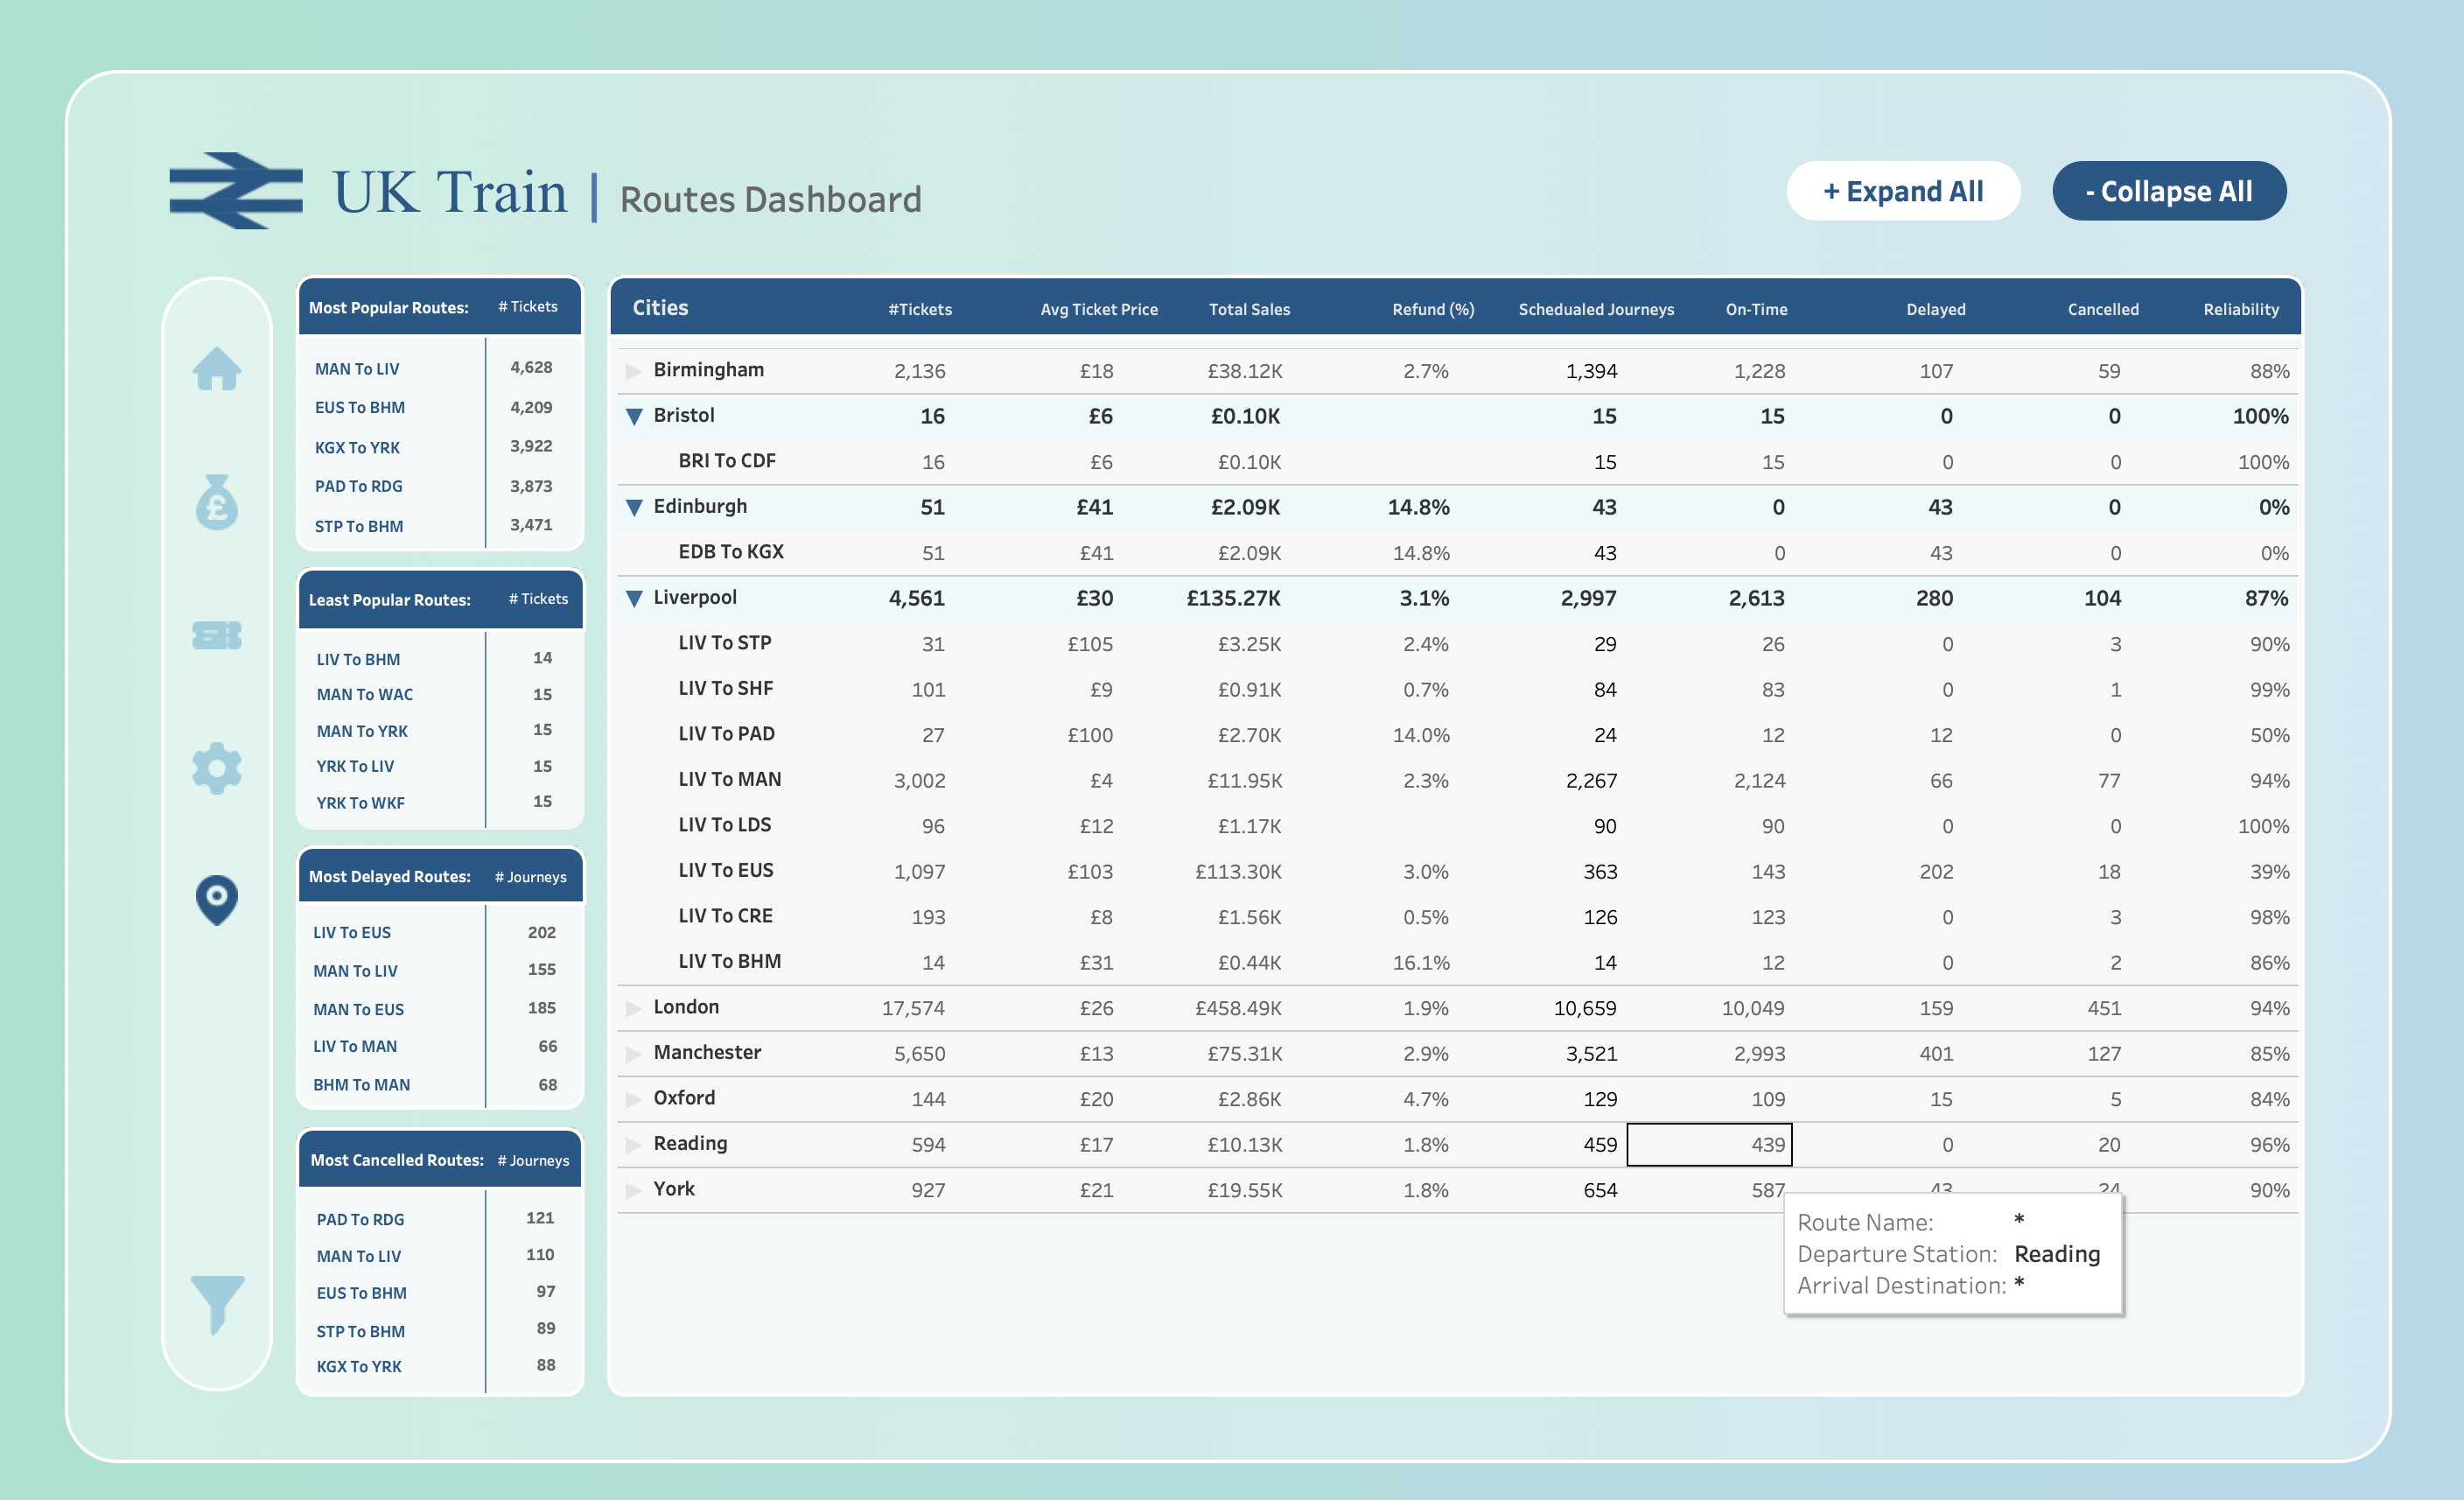

This screenshot's page, from the dashboard's own definition file:
{"tool":"tableau","page":{"name":"Routes Dashboard","canvas":[1400,860],"ordinal":6},"visuals":[{"type":"worksheet","title":"Routes Filters","mark":"Bar","box":[41,47,308,792]},{"type":"blank","box":[349,47,1018,792]},{"type":"image","param":"Image/Asset 1.png","box":[89,88,96,52]},{"type":"text","box":[185,88,446,52]},{"type":"blank","box":[631,88,383,52]},{"type":"worksheet","title":"Expand All","mark":"Text","box":[1014,88,152,52]},{"type":"worksheet","title":"Collapse All","mark":"Text","box":[1166,88,152,52]},{"type":"text","box":[268,164,72,32]},{"type":"text","box":[361,166,952,28]},{"type":"text","box":[176,168,99,26]},{"type":"dashboard-object","box":[108,177,36,77]},{"type":"text","box":[168,203,170,42]},{"type":"worksheet","title":"Most Popular Roates","mark":"Automatic","rows":["Route_Name"],"box":[176,204,147,113]},{"type":"worksheet","title":"Routes List","mark":"Bar","rows":["Departure_City"," (copy) (copy)_6842339627560971","Calculation_0548394986922001"],"cols":["Calculation_0548394982891530","Calculation_0548394983776272","Calculation_0548394982899726","Calculation_0548395009663011","Calculation_0548395006734367","Calculation_0548395011911719","Calculation_0548395013836843","Calculation_0548395018211377","Calculation_0548395023831099","Calculation_0548395024724032","Calculation_0548395025088578"],"box":[355,204,961,585]},{"type":"filter","title":"Routes Filters","param":"[federated.03h78ww1hwtryk19zhidr00sfhfq].[mn:Date_of_Purchase:ok]","box":[168,245,170,52]},{"type":"dashboard-object","box":[108,254,36,76]},{"type":"filter","title":"Routes Filters","param":"[federated.03h78ww1hwtryk19zhidr00sfhfq].[none:Calculation_0696677097410594:nk]","box":[168,297,170,52]},{"type":"dashboard-object","box":[108,330,36,76]},{"type":"text","box":[176,330,110,35]},{"type":"text","box":[280,332,60,29]},{"type":"filter","title":"Routes Filters","param":"[federated.03h78ww1hwtryk19zhidr00sfhfq].[none:Ticket_Type:nk]","box":[168,349,170,52]},{"type":"worksheet","title":"Least Popular Roates","mark":"Automatic","rows":["Route_Name"],"box":[177,371,145,103]},{"type":"filter","title":"Routes Filters","param":"[federated.03h78ww1hwtryk19zhidr00sfhfq].[none:Ticket_Class:nk]","box":[168,401,170,52]},{"type":"dashboard-object","box":[108,406,36,76]},{"type":"filter","title":"Routes Filters","param":"[federated.03h78ww1hwtryk19zhidr00sfhfq].[none:Ticket_Segment:nk]","box":[168,453,170,52]},{"type":"image","param":"Image/Asset 14.png","box":[108,482,36,76]},{"type":"text","box":[176,490,104,32]},{"type":"text","box":[276,491,59,30]},{"type":"blank","box":[168,505,170,207]},{"type":"worksheet","title":"Most Delayed Roates","mark":"Automatic","rows":["Route_Name"],"box":[175,527,150,109]},{"type":"blank","box":[108,558,36,76]},{"type":"blank","box":[108,634,36,76]},{"type":"text","box":[177,652,102,31]},{"type":"text","box":[281,653,52,30]},{"type":"worksheet","title":"Most Cancelled Roates","mark":"Automatic","rows":["Route_Name"],"box":[177,691,147,106]},{"type":"blank","box":[108,710,36,76]},{"type":"worksheet","title":"Reset Filter2","mark":"Automatic","box":[168,712,170,45]},{"type":"dashboard-object","box":[110,728,32,46]}]}

Visuals, with their boxes in screenshot pixels (x1, y1, x2, y2), scaled from the page's 1400x860 canvas onto the 2464x1500 screenshot:
"Routes Filters" worksheet (Bar marks): bbox(72, 82, 614, 1463)
blank: bbox(614, 82, 2406, 1463)
image: bbox(157, 153, 325, 244)
text: bbox(325, 153, 1110, 244)
blank: bbox(1110, 153, 1785, 244)
"Expand All" worksheet (Text marks): bbox(1785, 153, 2052, 244)
"Collapse All" worksheet (Text marks): bbox(2052, 153, 2320, 244)
text: bbox(472, 286, 598, 342)
text: bbox(635, 290, 2311, 339)
text: bbox(310, 293, 484, 339)
dashboard-object: bbox(190, 309, 254, 443)
text: bbox(296, 354, 595, 427)
"Most Popular Roates" worksheet: bbox(310, 356, 569, 553)
"Routes List" worksheet (Bar marks): bbox(625, 356, 2316, 1376)
"Routes Filters" filter: bbox(296, 427, 595, 518)
dashboard-object: bbox(190, 443, 254, 576)
"Routes Filters" filter: bbox(296, 518, 595, 609)
dashboard-object: bbox(190, 576, 254, 708)
text: bbox(310, 576, 503, 636)
text: bbox(493, 579, 598, 629)
"Routes Filters" filter: bbox(296, 609, 595, 699)
"Least Popular Roates" worksheet: bbox(311, 647, 567, 827)
"Routes Filters" filter: bbox(296, 699, 595, 790)
dashboard-object: bbox(190, 708, 254, 841)
"Routes Filters" filter: bbox(296, 790, 595, 880)
image: bbox(190, 841, 254, 973)
text: bbox(310, 855, 493, 910)
text: bbox(486, 857, 590, 908)
blank: bbox(296, 880, 595, 1242)
"Most Delayed Roates" worksheet: bbox(308, 919, 572, 1110)
blank: bbox(190, 973, 254, 1106)
blank: bbox(190, 1106, 254, 1238)
text: bbox(311, 1137, 491, 1191)
text: bbox(494, 1139, 586, 1191)
"Most Cancelled Roates" worksheet: bbox(311, 1205, 570, 1390)
blank: bbox(190, 1238, 254, 1371)
"Reset Filter2" worksheet: bbox(296, 1242, 595, 1321)
dashboard-object: bbox(193, 1270, 250, 1350)
